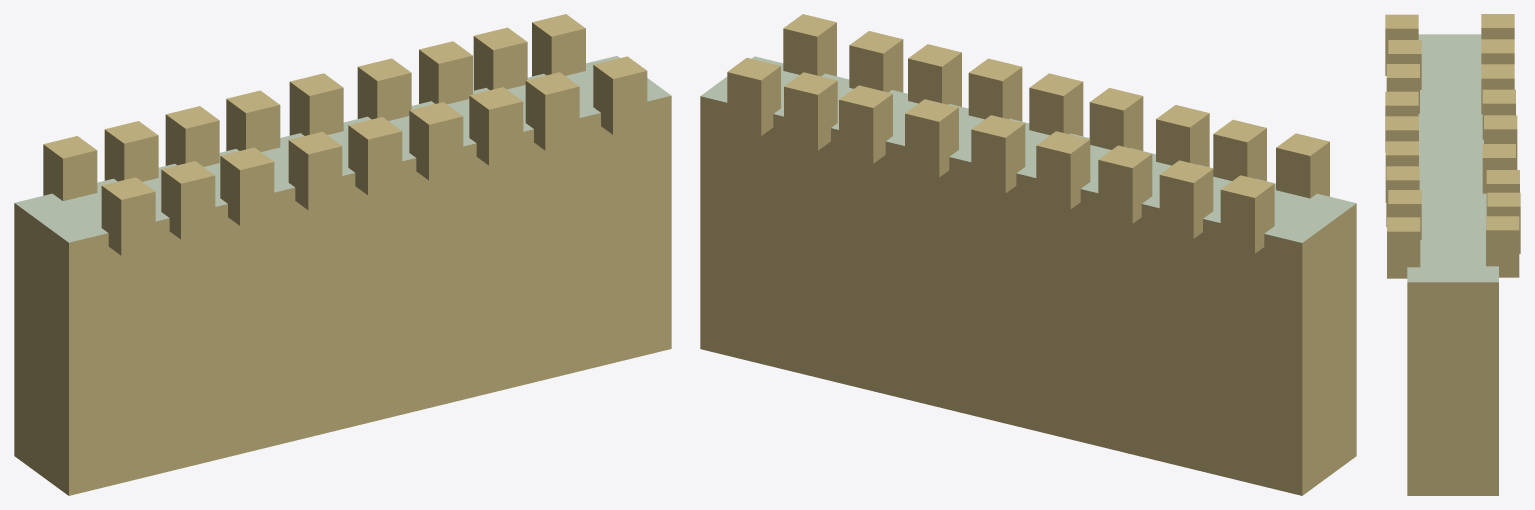
Rendered from wall.fbx.
3 views of the same model, side by side, from view 1: azimuth 30°, elevation 25°; view 2: azimuth 150°, elevation 25°; view 3: azimuth 270°, elevation 25° (orthographic). The views are drawn at different scales.
Parts seen in each view (by area): view 1: Cube.003; view 2: Cube.003; view 3: Cube.003.
Boxes of the visible parts, left/top/right/bottom form: Cube.003: left=14, top=14, right=671, bottom=495; Cube.003: left=700, top=14, right=1356, bottom=495; Cube.003: left=1385, top=14, right=1520, bottom=495.
Bounding box in the file's own units: 2171 × 1021 × 501.
